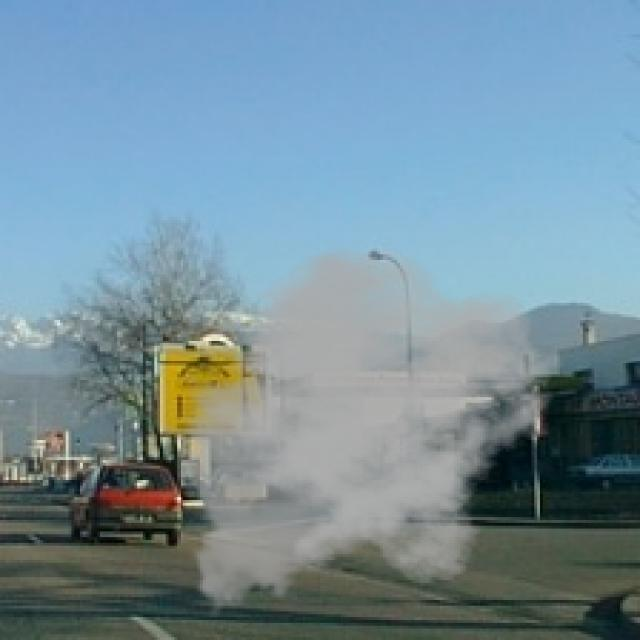Smoke: (171, 246, 566, 623)
